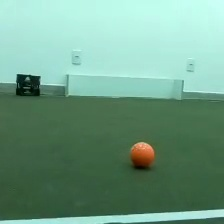ball: (127, 139, 158, 171)
goal: (62, 71, 185, 102)
robot: (14, 71, 42, 97)
